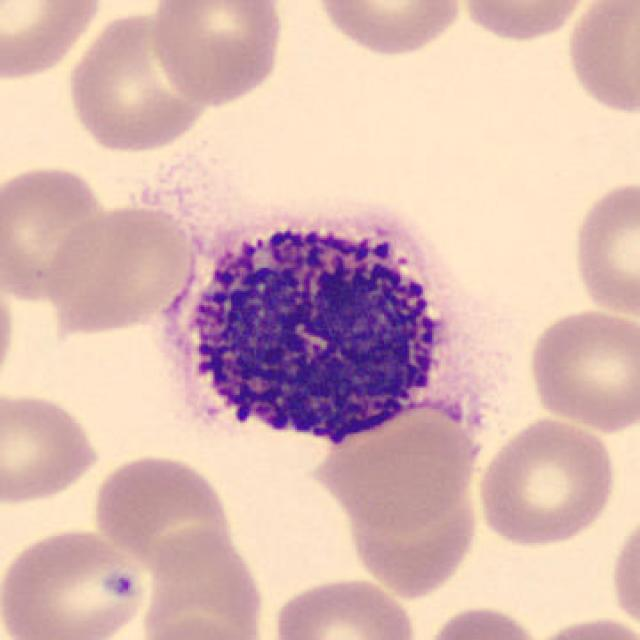Basophil: (139, 194, 503, 462)
RBC: (311, 395, 489, 532), (62, 5, 217, 157), (41, 201, 197, 333), (473, 413, 620, 550), (89, 450, 236, 574), (0, 523, 153, 640), (0, 160, 116, 305), (146, 0, 288, 108), (523, 303, 638, 434), (139, 526, 262, 634), (0, 388, 103, 508), (267, 571, 421, 640), (567, 174, 638, 321), (311, 0, 468, 60), (562, 0, 638, 120), (0, 0, 107, 83), (455, 0, 599, 44), (420, 601, 546, 640), (608, 506, 640, 636), (135, 612, 269, 640), (526, 612, 638, 640), (0, 268, 20, 395)
